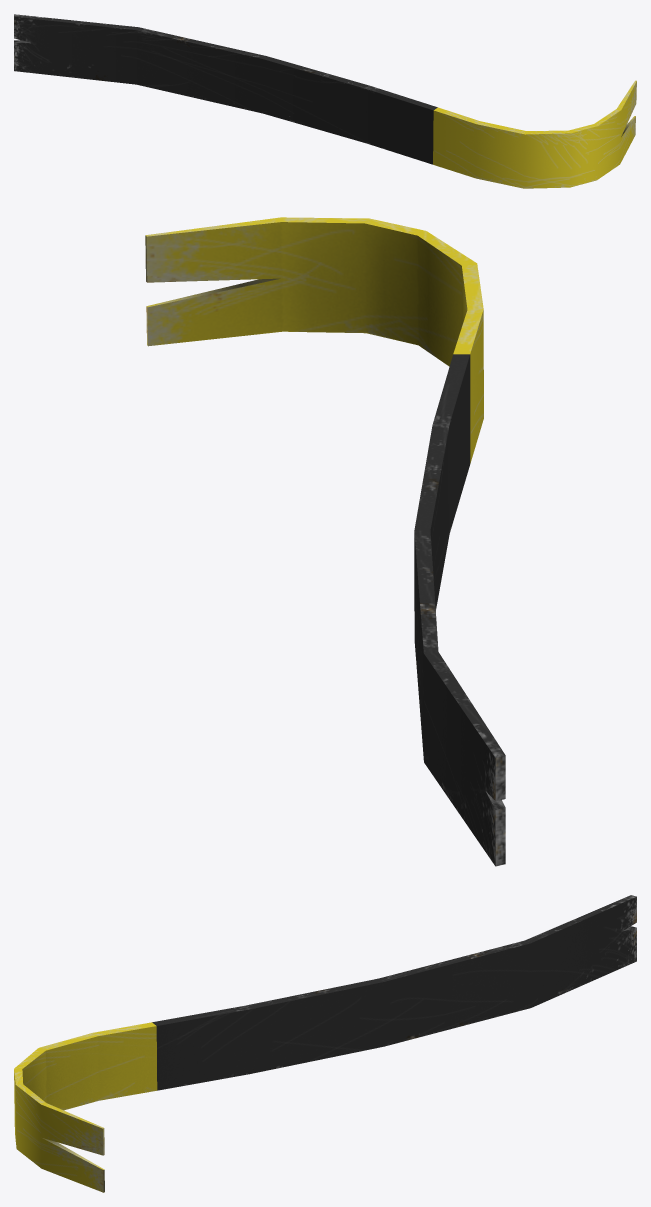
File: crowbar.fbx
The picture shows the model from 3 angles, top to bottom: view 1: azimuth 30°, elevation 25°; view 2: azimuth 150°, elevation 25°; view 3: azimuth 270°, elevation 25°; orthographic projection. The views are drawn at different scales.
Visible parts, largest first — view 1: crowbar; view 2: crowbar; view 3: crowbar.
Boxes of the visible parts, x1,y1,x2,y2 form: crowbar: (14,14,636,188); crowbar: (145,217,505,866); crowbar: (14,895,636,1192).
Size of the model in its own units: 0.4011 by 0.0519 by 0.452.
1 material, 1 textured.
